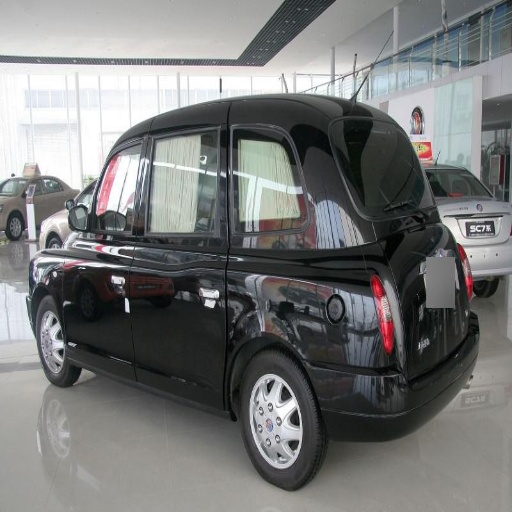back_bumper: (321, 277, 480, 436)
back_glass: (302, 129, 420, 207)
back_left_door: (132, 128, 229, 388)
back_left_light: (366, 271, 394, 352)
tailgate: (382, 251, 445, 334), (437, 197, 509, 260)
trunk: (215, 262, 365, 392), (412, 317, 453, 366)
